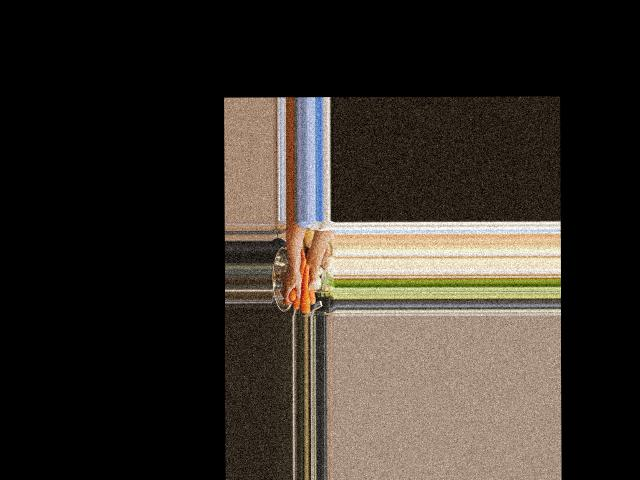carrot: (294, 256, 308, 310)
